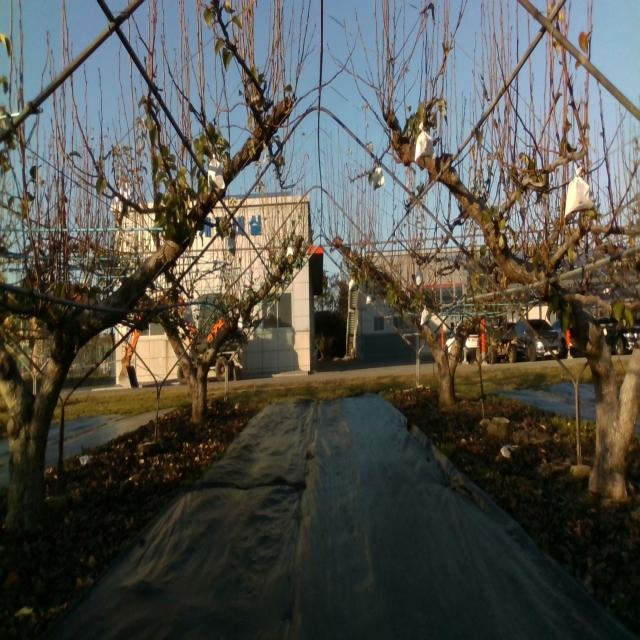pearbags: (563, 167, 595, 217), (414, 122, 436, 162), (208, 153, 225, 196), (373, 167, 384, 192), (183, 305, 195, 325)
